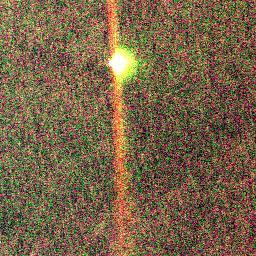Ship: (106, 45, 132, 81)
